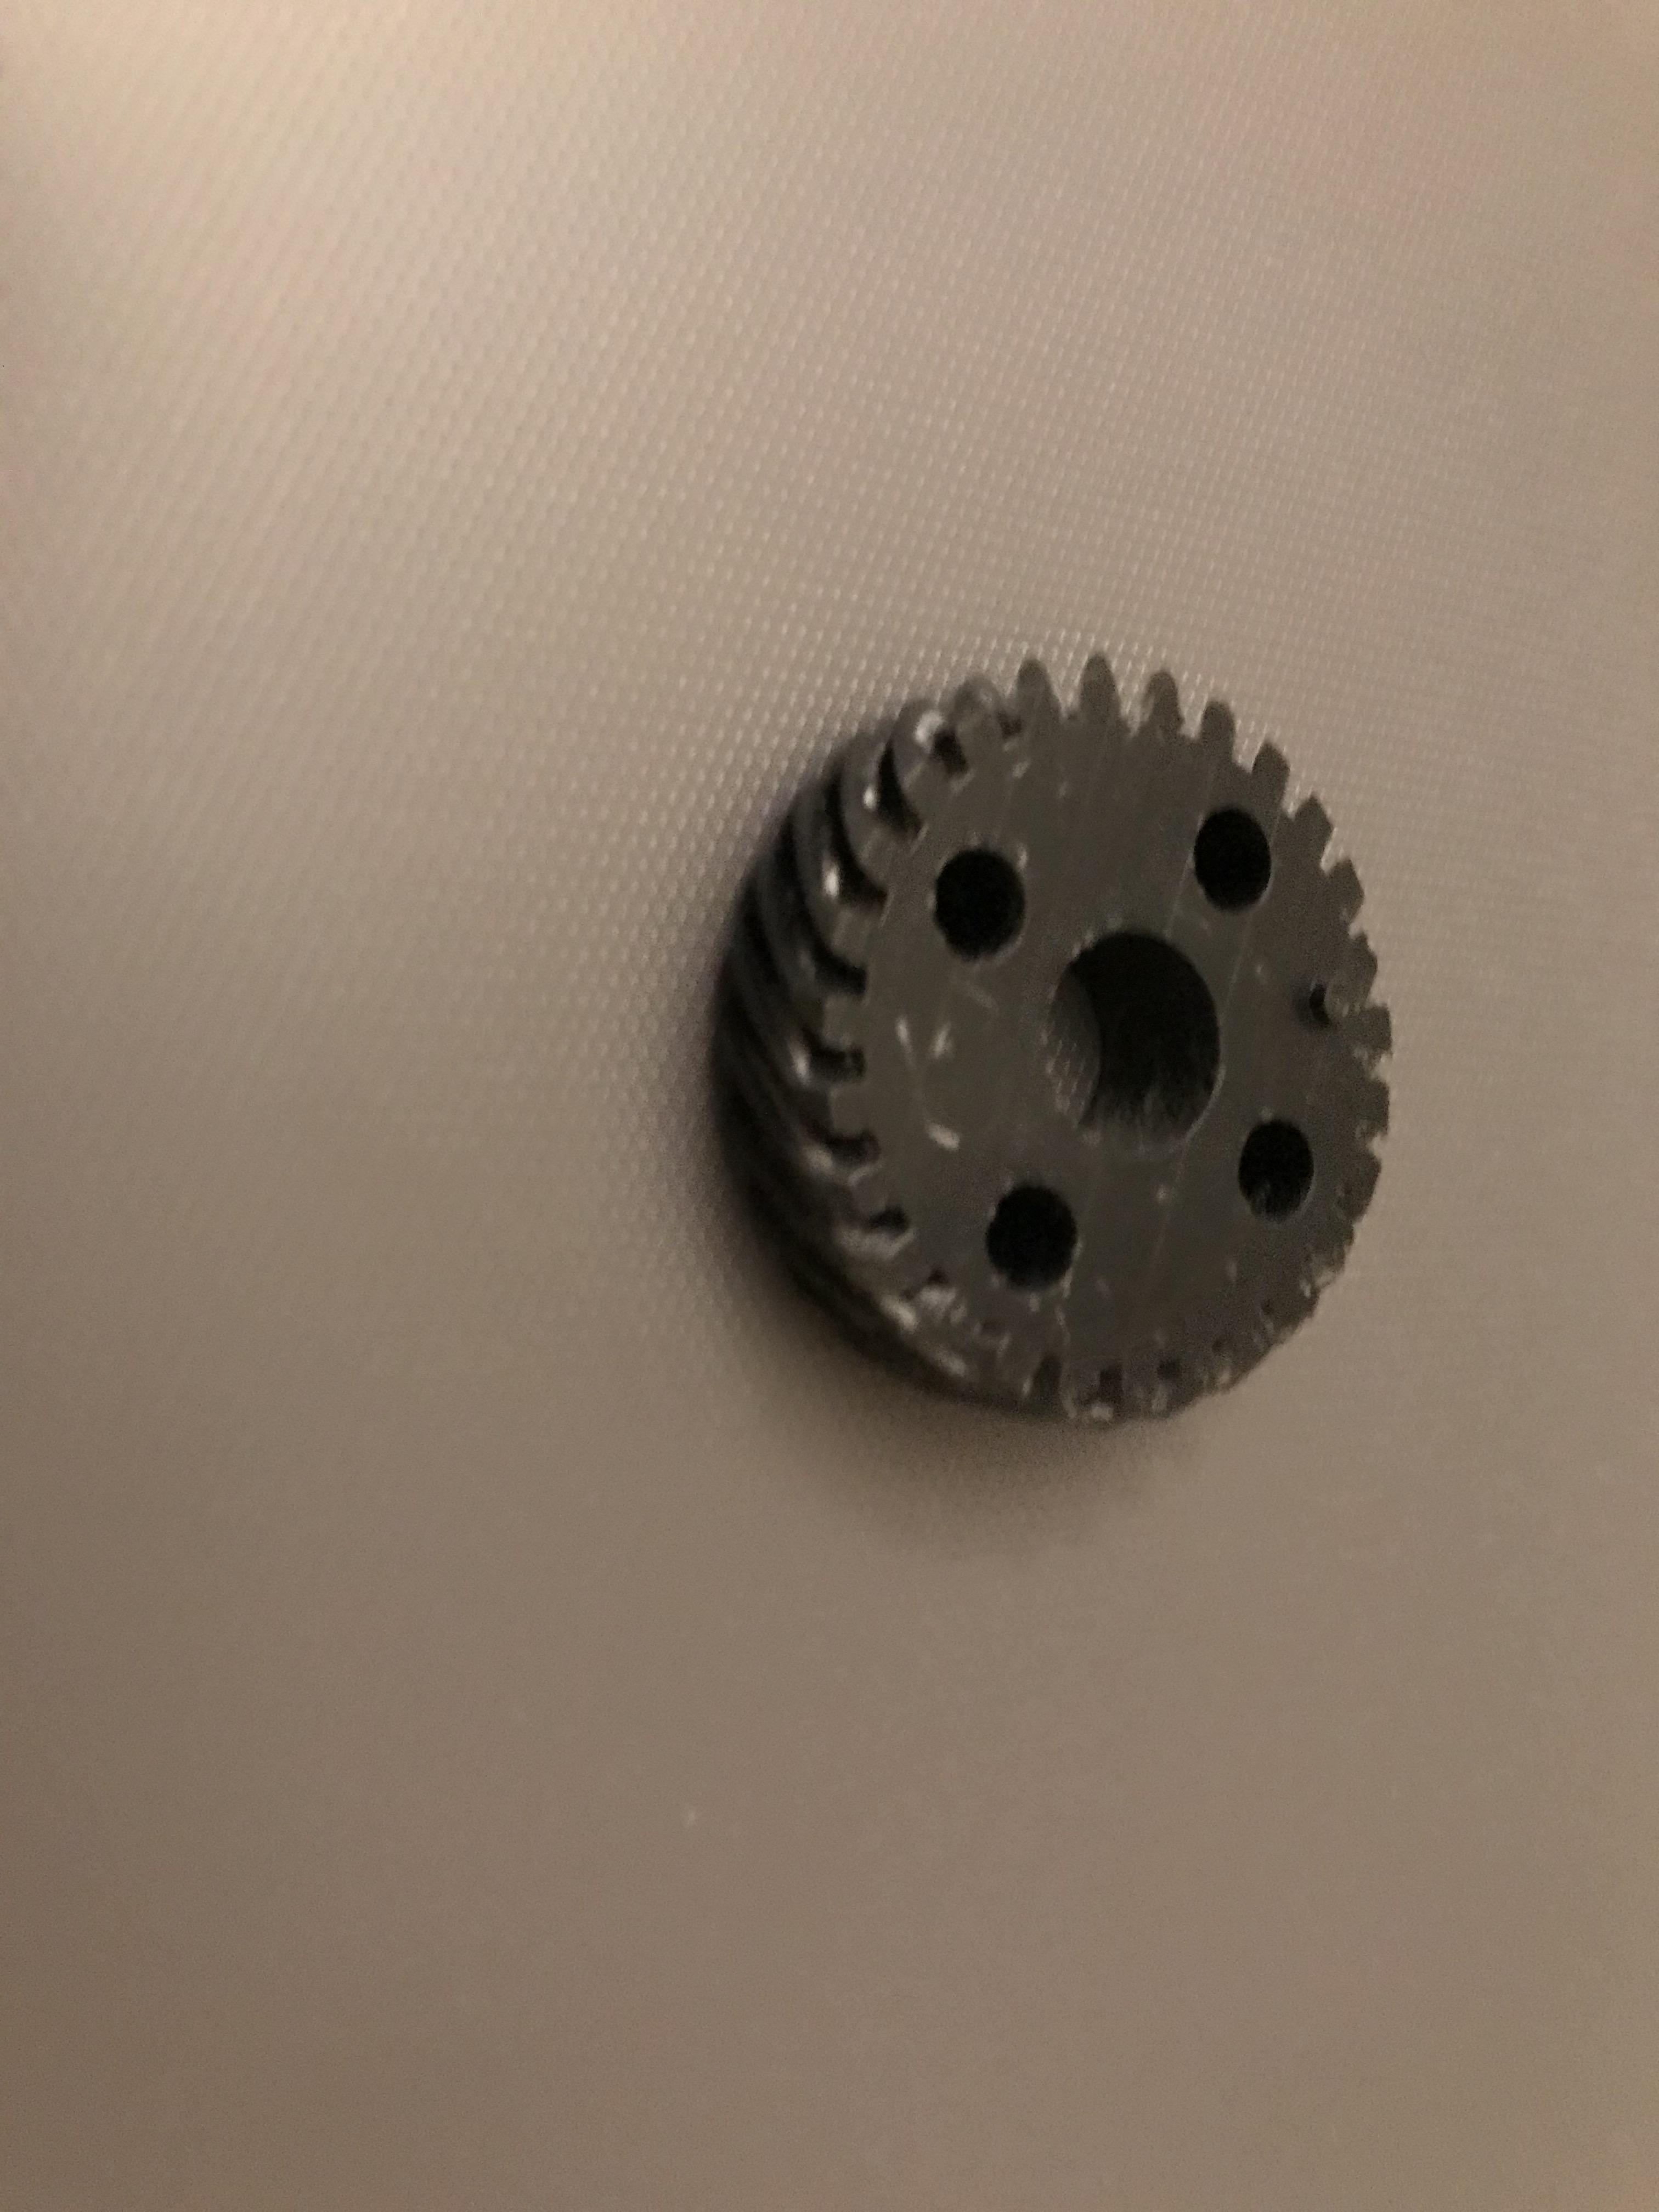Wheel: (695, 653, 1408, 1447)
